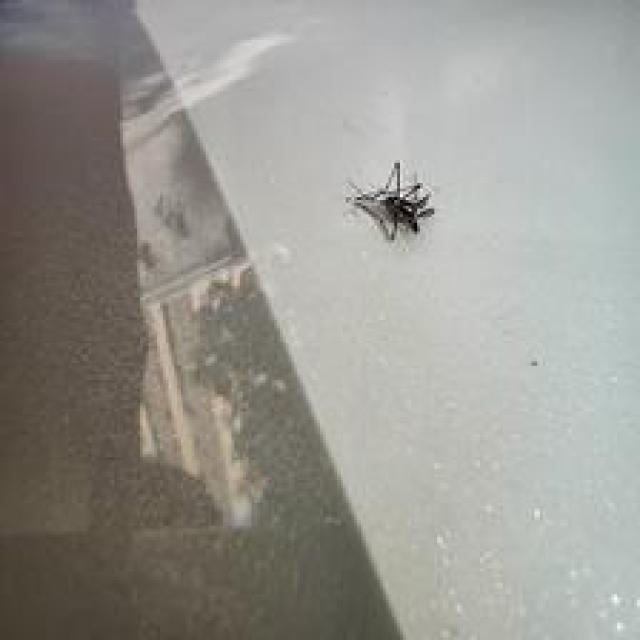Aedes albopictus: (344, 160, 436, 243)
